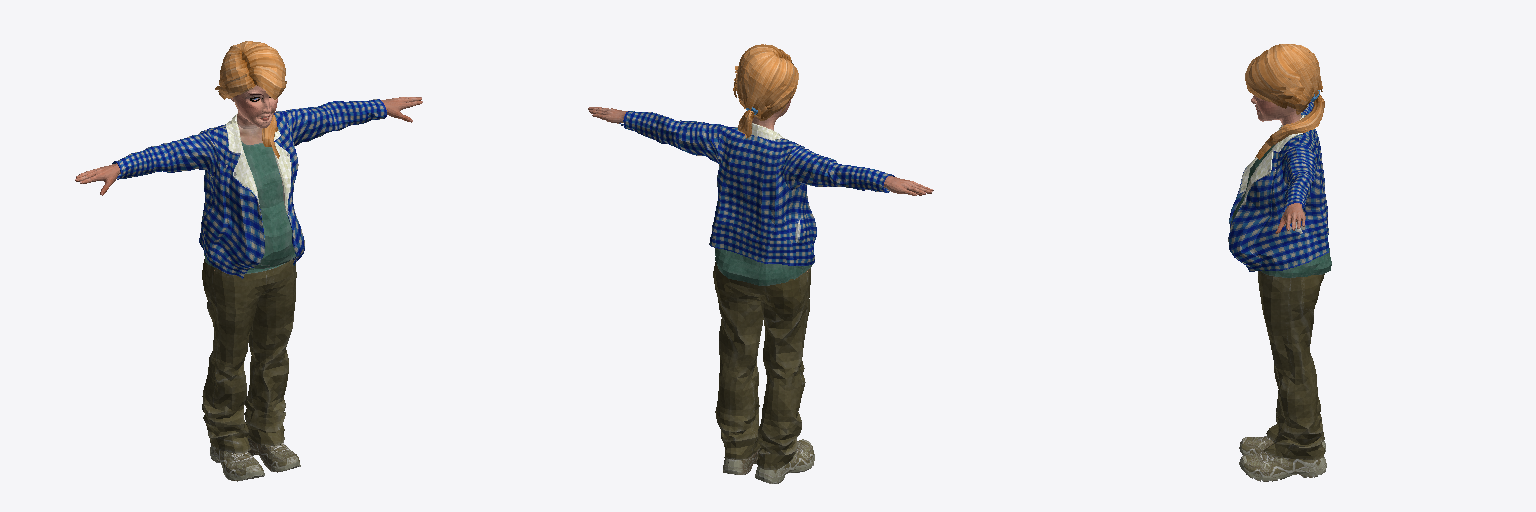
3 renders of one model, left to right at view 1: azimuth 30°, elevation 25°; view 2: azimuth 150°, elevation 25°; view 3: azimuth 270°, elevation 25°, orthographic.
Parts seen in each view (by area): view 1: Tops, Bottoms, Hair, Body, Shoes; view 2: Tops, Bottoms, Hair, Shoes, Body; view 3: Tops, Bottoms, Hair, Shoes, Body.
Boxes of the visible parts, box(x1,y1,x2,y2) form: Tops: box(112, 99, 386, 278); Bottoms: box(202, 259, 296, 453); Hair: box(215, 41, 286, 158); Body: box(75, 85, 422, 195); Shoes: box(210, 438, 300, 481); Tops: box(619, 111, 894, 285); Bottoms: box(713, 262, 810, 469); Hair: box(733, 44, 798, 138); Shoes: box(723, 439, 814, 483); Body: box(588, 100, 933, 195); Tops: box(1228, 102, 1331, 277); Bottoms: box(1258, 271, 1324, 459); Hair: box(1245, 44, 1324, 159); Shoes: box(1239, 436, 1326, 481); Body: box(1251, 95, 1305, 233).
Size of the model in its own units: 153 by 178 by 39.8.
Materials: 1 (1 with a texture image).